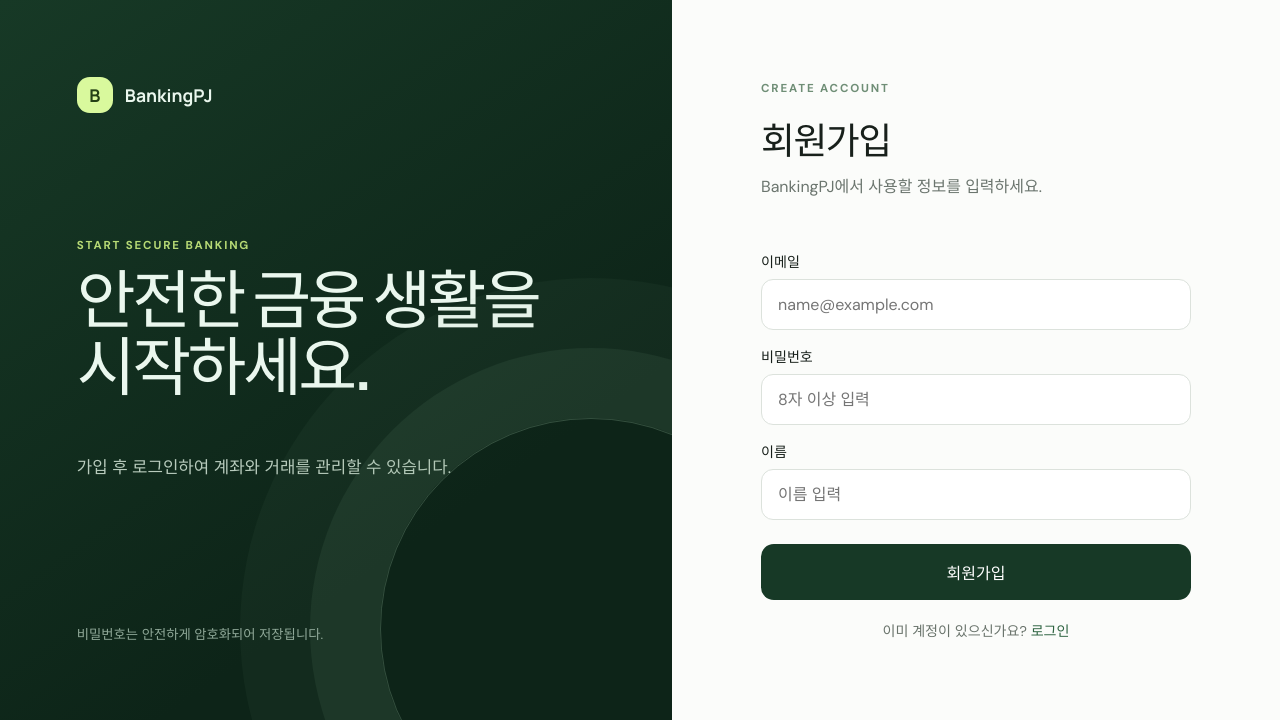
Frontend 회원가입 흐름 › 중복 이메일 오류를 표시한다
Type "new@example.com" into the field labelled "이메일" at (976, 304), box [761,279,1191,330]
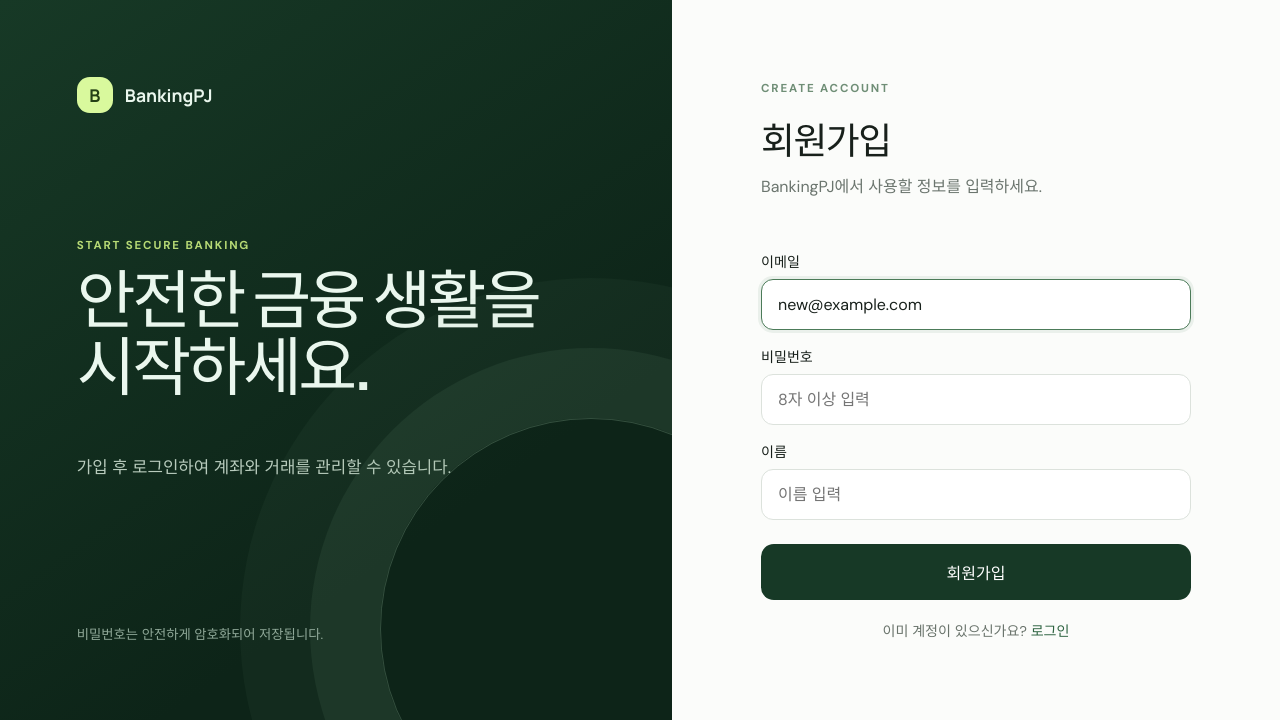
Type "password123!" into the password field labelled "비밀번호" at (976, 400), box [761,374,1191,425]
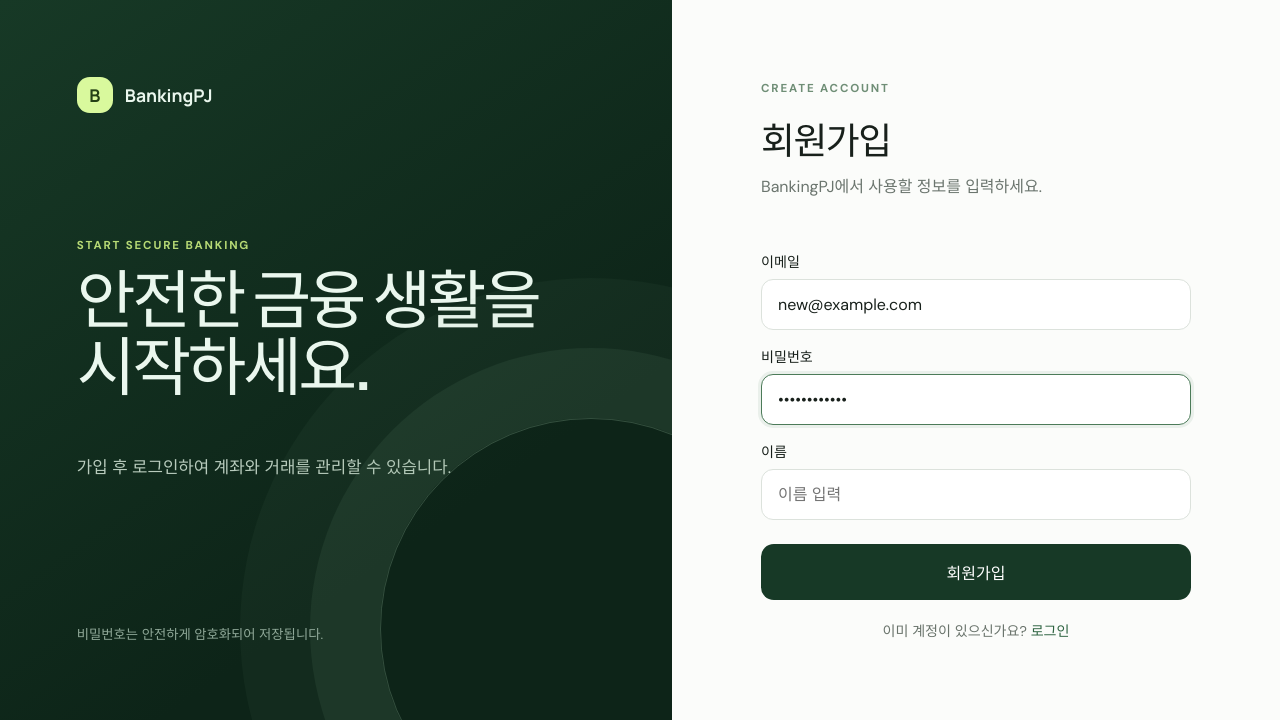
Type "홍길동" into the field labelled "이름" at (976, 494), box [761,468,1191,520]
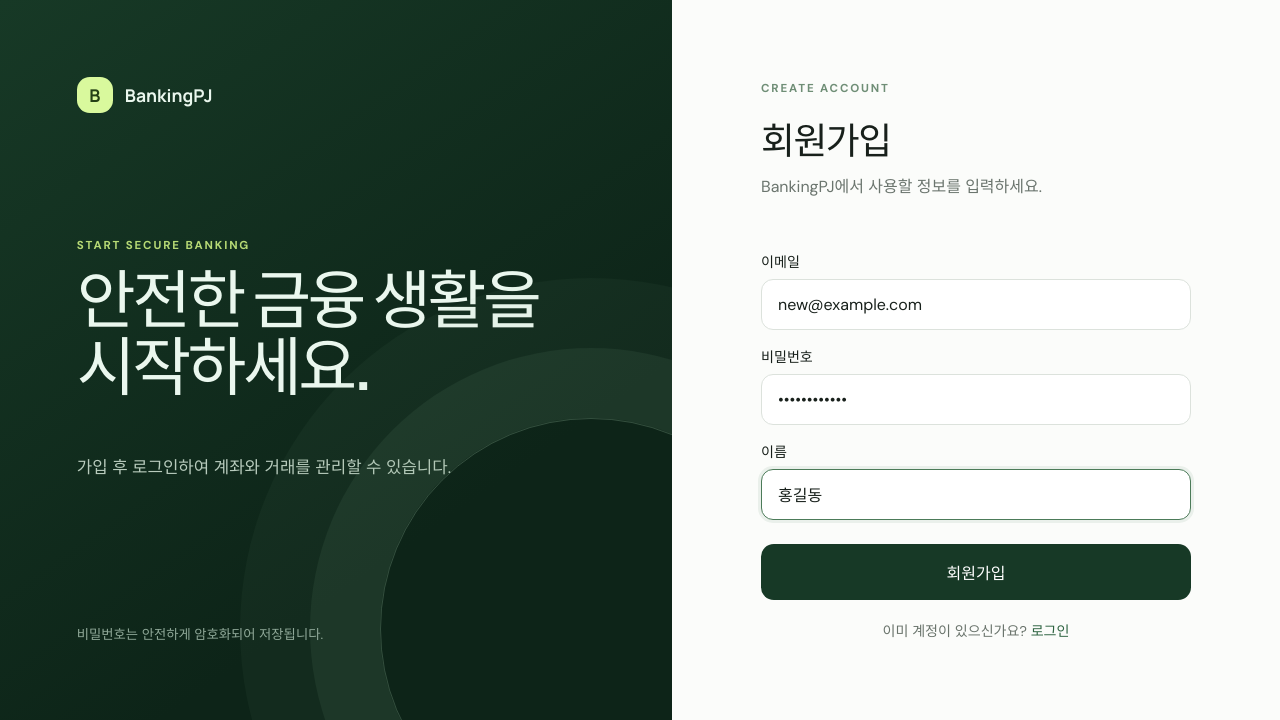
Click the button "회원가입" at (976, 572), box [761,544,1191,600]
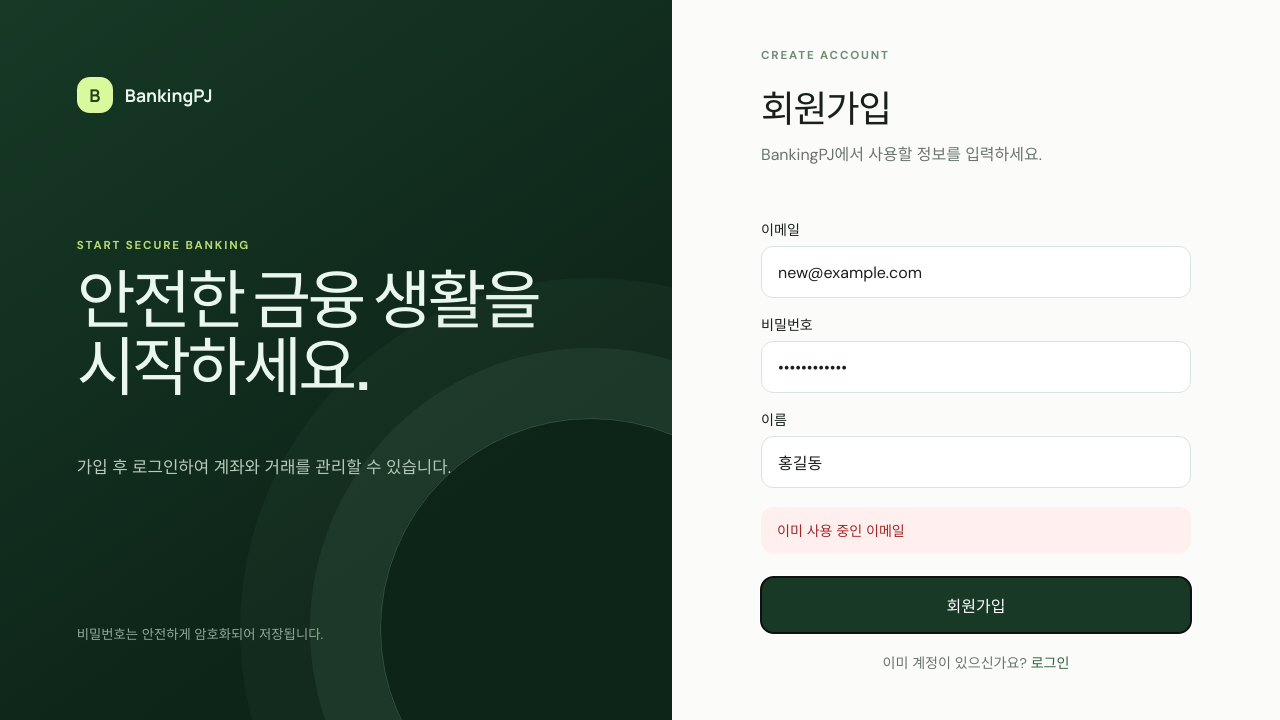
Expected: the message reads "이미 사용 중인 이메일", [777,522,905,540]
